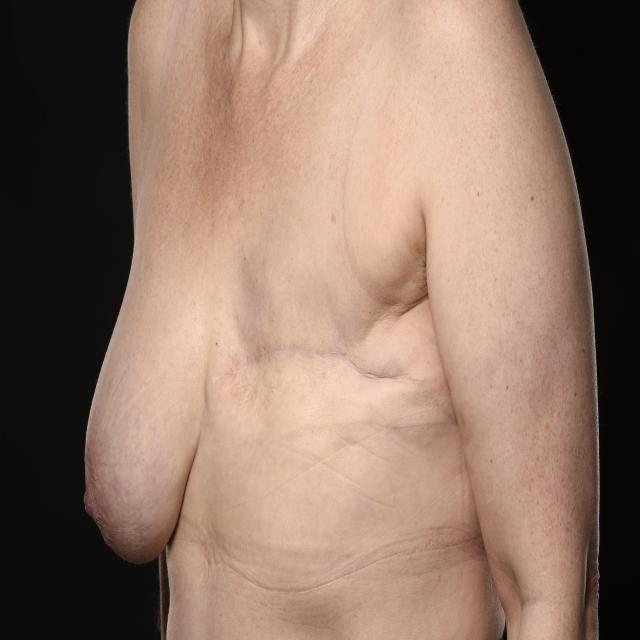wound: (226, 314, 438, 420)
